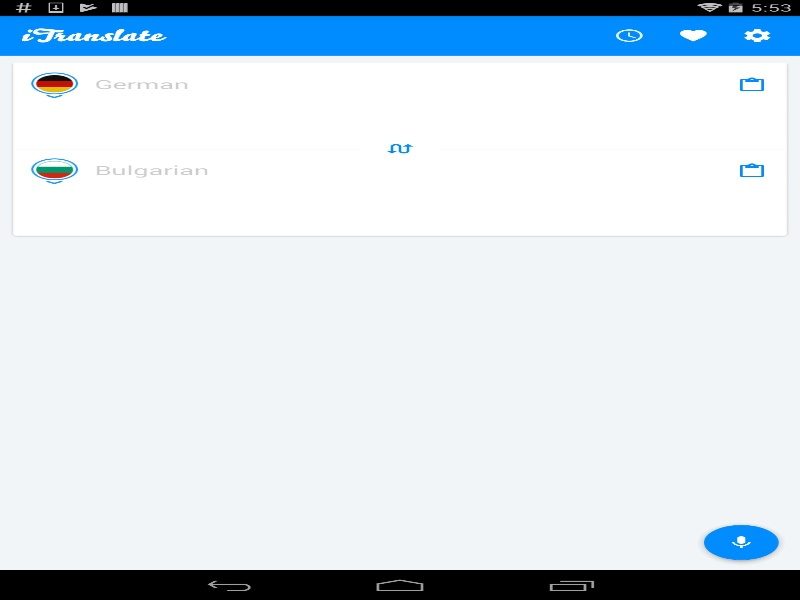Button: (688, 513, 794, 571), (360, 130, 440, 167), (718, 69, 785, 100), (718, 155, 785, 186), (24, 74, 84, 102), (24, 160, 84, 188)
Input: (94, 63, 718, 149), (94, 149, 718, 235)
